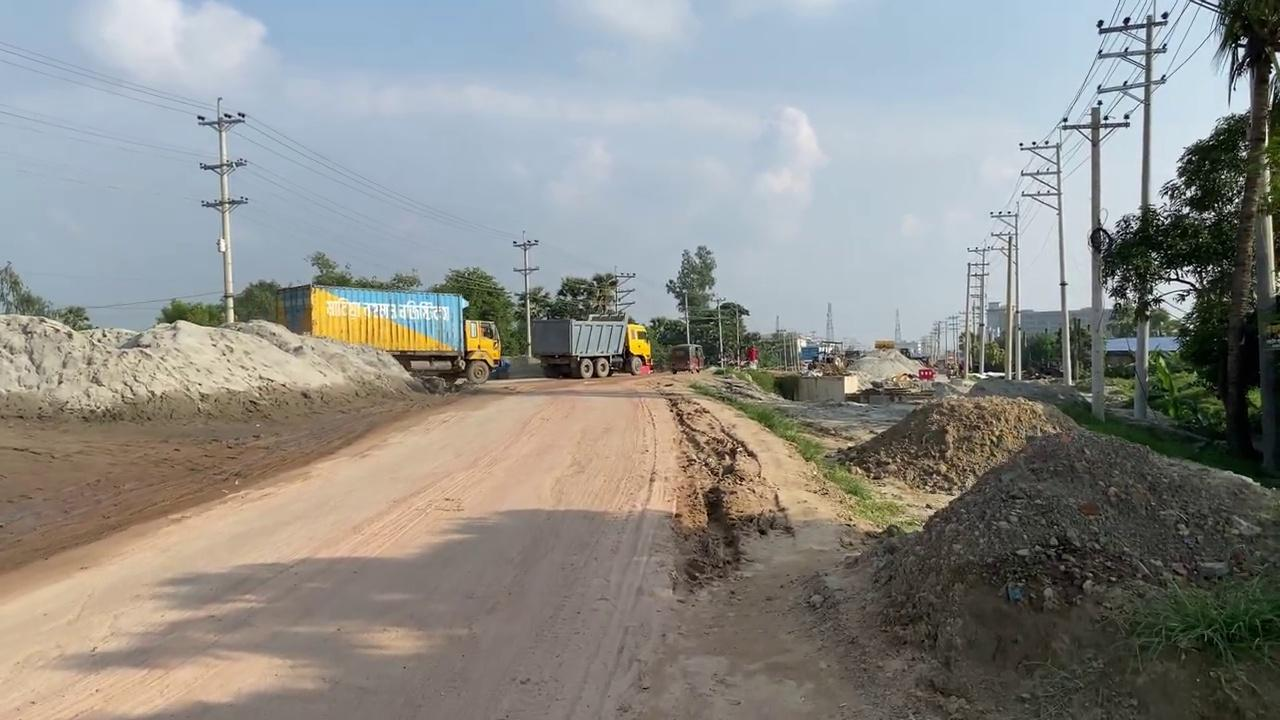Muddy road: (1, 366, 918, 718)
Obstacle: (772, 370, 857, 403)
Pole: (1095, 12, 1168, 420), (1060, 102, 1129, 422), (1018, 140, 1072, 386), (196, 96, 248, 323)
Traffic-sign: (1094, 106, 1278, 458)
Tree: (274, 283, 506, 385), (529, 311, 652, 378), (668, 289, 704, 374), (797, 336, 847, 375), (668, 343, 704, 374)
